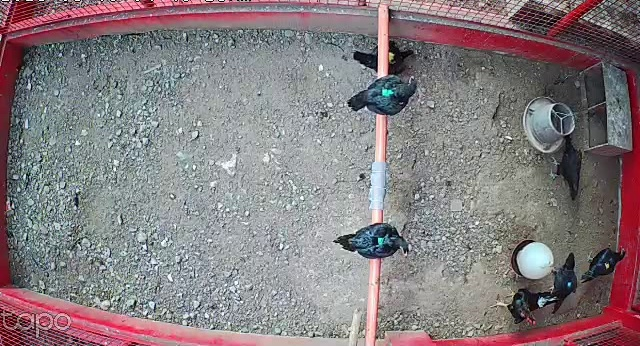Chicken: (335, 219, 414, 259), (346, 76, 423, 116), (488, 285, 551, 331), (545, 134, 585, 202), (350, 39, 420, 77), (544, 253, 581, 315), (576, 244, 624, 289)
Saddle_Color_Blue: (567, 282, 572, 286)
Saddle_Color_Yellow: (387, 51, 395, 65)
